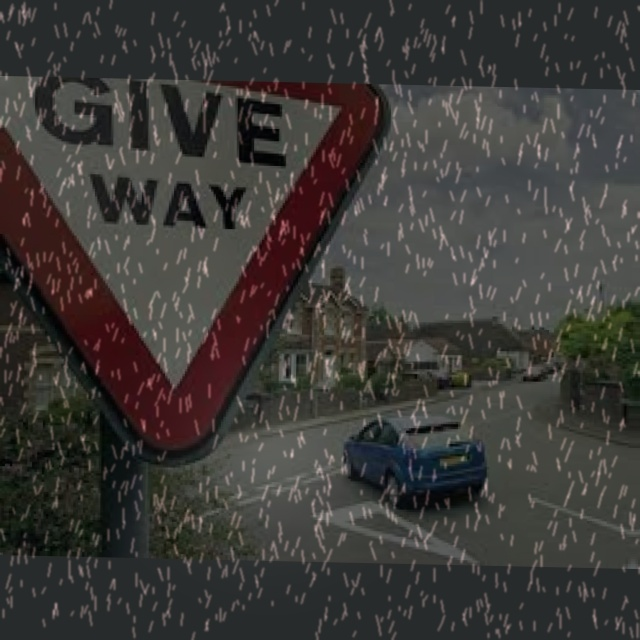Give_Way: (4, 76, 363, 405)
